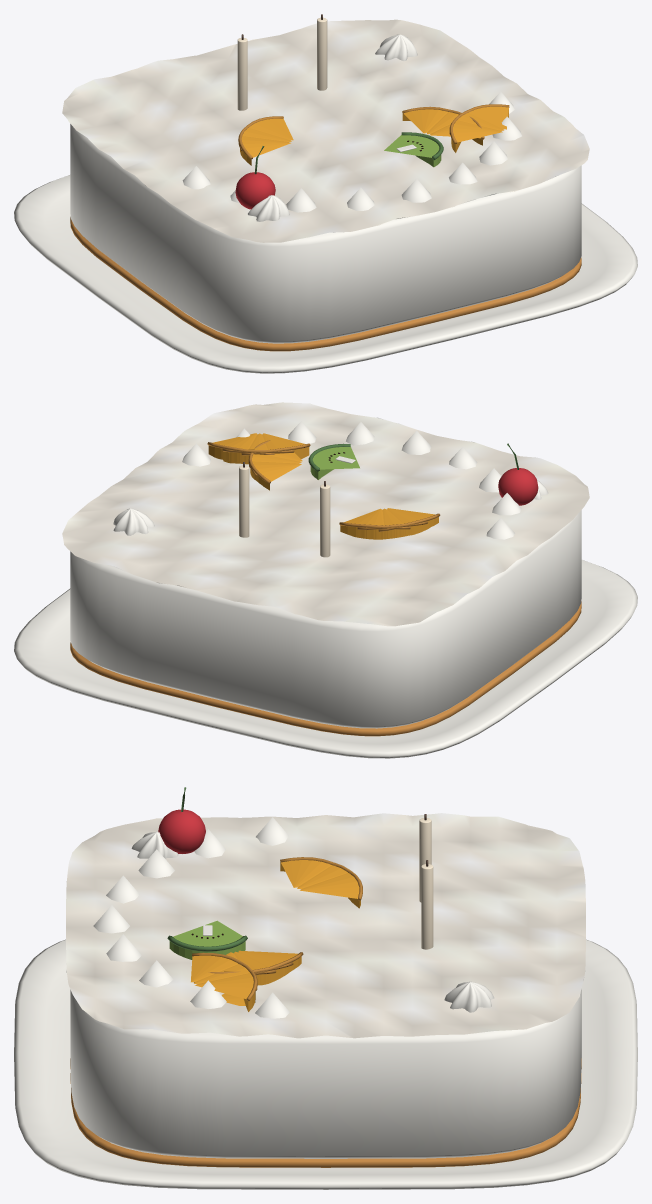
The model's file is cake-02.3b36581e2ae4.glb.
3 renders of one model, top to bottom at view 1: azimuth 30°, elevation 25°; view 2: azimuth 150°, elevation 25°; view 3: azimuth 270°, elevation 25°, orthographic. The views are drawn at different scales.
Visible parts, largest first — view 1: Irregular_hand_spread_food_surface, PART_FOOD_ROOT_MAT_cream, Clean_porcelain_plate, Exposed_thin_sponge_base, PART_FOOD_ROOT_MAT_peach, PART_FOOD_ROOT_MAT_white_wax, Cherry_red_flesh, Cut_kiwi_wedge_flesh, PART_FOOD_ROOT_MAT_amber; view 2: Irregular_hand_spread_food_surface, PART_FOOD_ROOT_MAT_cream, Clean_porcelain_plate, Exposed_thin_sponge_base, PART_FOOD_ROOT_MAT_peach, PART_FOOD_ROOT_MAT_white_wax, PART_FOOD_ROOT_MAT_amber, Cherry_red_flesh, Cut_kiwi_wedge_flesh; view 3: Irregular_hand_spread_food_surface, PART_FOOD_ROOT_MAT_cream, Clean_porcelain_plate, PART_FOOD_ROOT_MAT_peach, Exposed_thin_sponge_base, PART_FOOD_ROOT_MAT_white_wax, Cherry_red_flesh, Cut_kiwi_wedge_flesh, PART_FOOD_ROOT_MAT_amber.
Part boxes in pixels (left/top/right/bottom): Irregular_hand_spread_food_surface: left=62, top=19, right=589, bottom=242; PART_FOOD_ROOT_MAT_cream: left=70, top=34, right=581, bottom=343; Clean_porcelain_plate: left=14, top=175, right=637, bottom=373; Exposed_thin_sponge_base: left=70, top=217, right=581, bottom=351; PART_FOOD_ROOT_MAT_peach: left=240, top=106, right=508, bottom=165; PART_FOOD_ROOT_MAT_white_wax: left=237, top=17, right=327, bottom=110; Cherry_red_flesh: left=235, top=172, right=275, bottom=209; Cut_kiwi_wedge_flesh: left=384, top=135, right=441, bottom=167; PART_FOOD_ROOT_MAT_amber: left=238, top=104, right=509, bottom=159; Irregular_hand_spread_food_surface: left=62, top=402, right=589, bottom=626; PART_FOOD_ROOT_MAT_cream: left=70, top=421, right=581, bottom=728; Clean_porcelain_plate: left=14, top=560, right=637, bottom=758; Exposed_thin_sponge_base: left=70, top=601, right=581, bottom=736; PART_FOOD_ROOT_MAT_peach: left=208, top=433, right=438, bottom=539; PART_FOOD_ROOT_MAT_white_wax: left=239, top=465, right=330, bottom=557; PART_FOOD_ROOT_MAT_amber: left=207, top=440, right=440, bottom=531; Cherry_red_flesh: left=498, top=468, right=538, bottom=505; Cut_kiwi_wedge_flesh: left=310, top=447, right=359, bottom=479; Irregular_hand_spread_food_surface: left=66, top=813, right=585, bottom=1038; PART_FOOD_ROOT_MAT_cream: left=70, top=817, right=581, bottom=1158; Clean_porcelain_plate: left=14, top=939, right=637, bottom=1189; PART_FOOD_ROOT_MAT_peach: left=191, top=860, right=360, bottom=1011; Exposed_thin_sponge_base: left=70, top=1058, right=581, bottom=1167; PART_FOOD_ROOT_MAT_white_wax: left=419, top=818, right=433, bottom=949; Cherry_red_flesh: left=158, top=809, right=205, bottom=853; Cut_kiwi_wedge_flesh: left=169, top=920, right=245, bottom=959; PART_FOOD_ROOT_MAT_amber: left=192, top=857, right=362, bottom=1001.
Size of the model in its own units: 0.1952 by 0.0798 by 0.1952.
